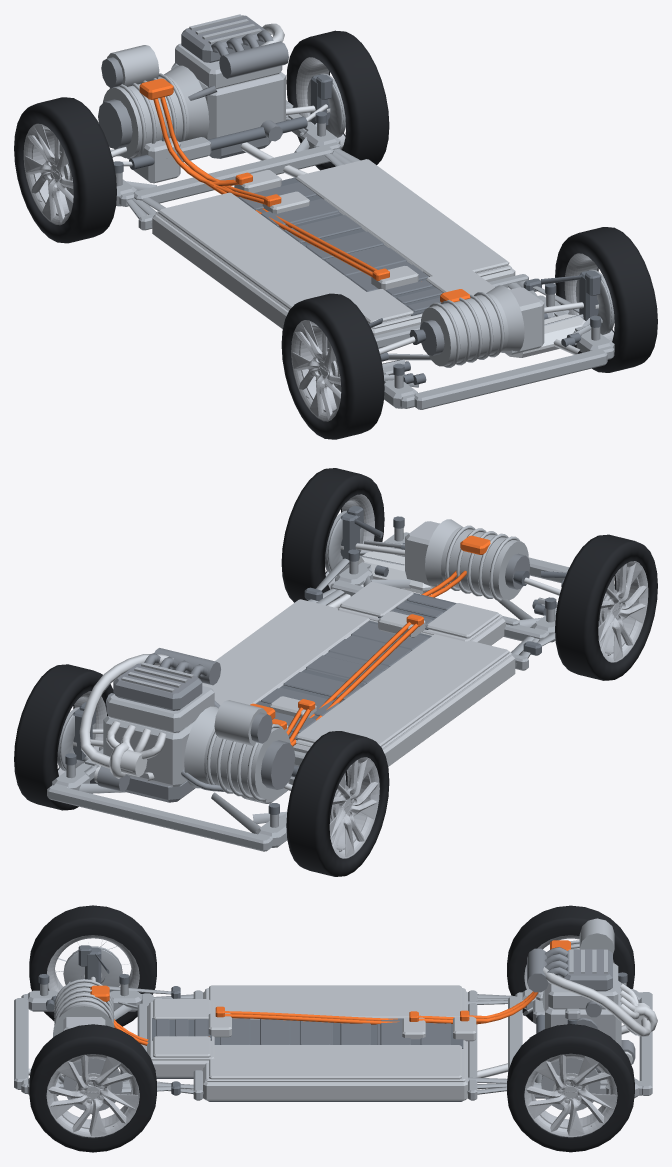
File: haval-powertrain.glb
3 views of the same model, one above another, from view 1: azimuth 30°, elevation 25°; view 2: azimuth 150°, elevation 25°; view 3: azimuth 270°, elevation 25° (orthographic). The views are drawn at different scales.
Parts seen in each view (by area): view 1: PHEV34_Lid, Wheel_RL, Wheel_FL, ICE, Motor_P2, Wheel_RR, Motor_P4, Wheel_FR, Subframe_Rear, Subframe_Front, PHEV34_Case, HEV_Lid (+18 smaller); view 2: PHEV34_Lid, ICE, Wheel_RL, Wheel_FL, Motor_P2, Motor_P4, Wheel_RR, Wheel_FR, Subframe_Front, HEV_Lid, Subframe_Rear, PHEV34_Case (+14 smaller); view 3: PHEV34_Lid, Wheel_RR, Wheel_FR, ICE, PHEV34_Case, Wheel_RL, Wheel_FL, HEV_Lid, Subframe_Rear, Motor_P4, Subframe_Front, Susp_RL (+16 smaller).
Part boxes in pixels (x1=…): PHEV34_Lid: x1=155, y1=159, x2=511, y2=310; Wheel_RL: x1=281, y1=293, x2=384, y2=439; Wheel_FL: x1=14, y1=97, x2=116, y2=243; ICE: x1=171, y1=14, x2=288, y2=158; Motor_P2: x1=98, y1=45, x2=209, y2=183; Wheel_RR: x1=555, y1=227, x2=657, y2=372; Motor_P4: x1=420, y1=285, x2=544, y2=367; Wheel_FR: x1=286, y1=30, x2=389, y2=170; Subframe_Rear: x1=378, y1=283, x2=614, y2=409; Subframe_Front: x1=110, y1=100, x2=340, y2=206; PHEV34_Case: x1=126, y1=149, x2=537, y2=328; HEV_Lid: x1=347, y1=268, x2=494, y2=328; PHEV34_Lid: x1=202, y1=599, x2=511, y2=748; ICE: x1=79, y1=648, x2=226, y2=802; Wheel_RL: x1=555, y1=534, x2=657, y2=680; Wheel_FL: x1=286, y1=731, x2=389, y2=876; Motor_P2: x1=184, y1=700, x2=295, y2=803; Motor_P4: x1=405, y1=519, x2=530, y2=601; Wheel_RR: x1=281, y1=468, x2=384, y2=602; Wheel_FR: x1=14, y1=664, x2=113, y2=810; Subframe_Front: x1=47, y1=747, x2=294, y2=851; HEV_Lid: x1=338, y1=582, x2=502, y2=641; Subframe_Rear: x1=330, y1=516, x2=569, y2=642; PHEV34_Case: x1=293, y1=588, x2=539, y2=766; PHEV34_Lid: x1=205, y1=985, x2=465, y2=1081; Wheel_RR: x1=29, y1=1024, x2=156, y2=1152; Wheel_FR: x1=507, y1=1024, x2=634, y2=1152; ICE: x1=527, y1=947, x2=657, y2=1073; PHEV34_Case: x1=153, y1=990, x2=515, y2=1101; Wheel_RL: x1=29, y1=905, x2=156, y2=1026; Wheel_FL: x1=507, y1=905, x2=634, y2=1021; HEV_Lid: x1=149, y1=999, x2=214, y2=1060; Subframe_Rear: x1=14, y1=974, x2=153, y2=1095; Motor_P4: x1=53, y1=979, x2=114, y2=1036; Subframe_Front: x1=508, y1=972, x2=652, y2=1098; Susp_RL: x1=46, y1=945, x2=180, y2=1011.
Bounding box in the file's own units: 1.83 × 0.9152 × 3.69.
